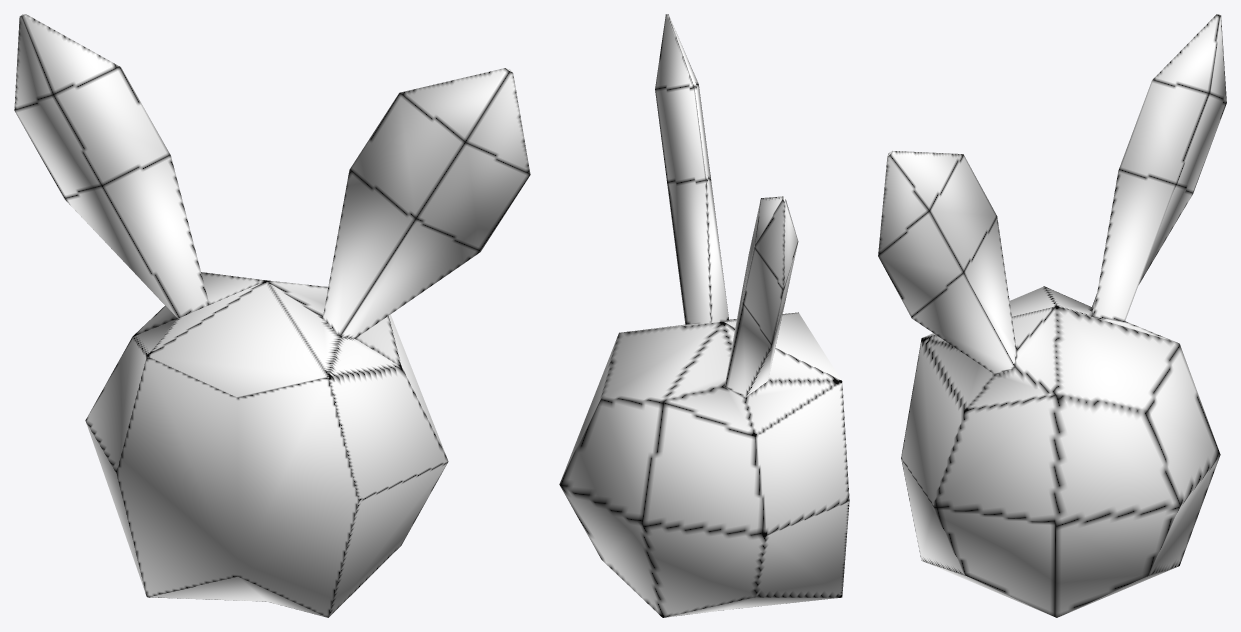
The model's file is cabezaConejo.obj.
The picture shows the model from 3 angles, left to right: view 1: azimuth 30°, elevation 25°; view 2: azimuth 150°, elevation 25°; view 3: azimuth 270°, elevation 25°; orthographic projection. The views are drawn at different scales.
Visible parts, largest first — view 1: Cube1; view 2: Cube1; view 3: Cube1.
Part boxes in pixels (x1=…): Cube1: x1=14, y1=14, x2=530, y2=617; Cube1: x1=559, y1=14, x2=849, y2=617; Cube1: x1=878, y1=14, x2=1226, y2=617.
Bounding box in the file's own units: 2.13 × 3.5 × 2.13.
1 material, 1 textured.
